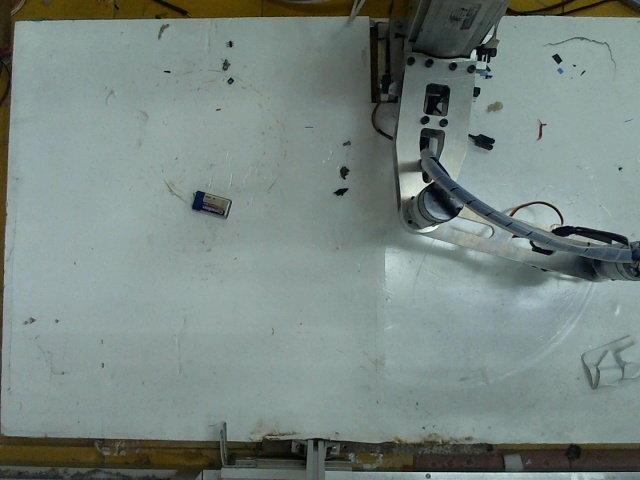battery: (189, 185, 233, 215)
